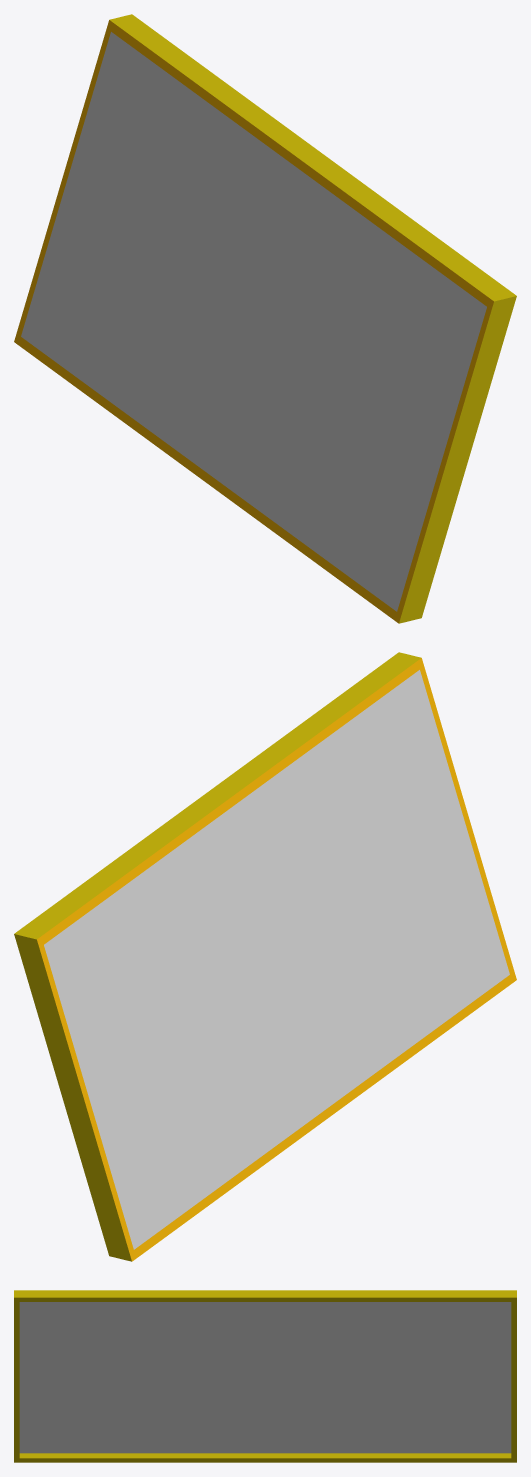
The model's file is window_slanted_7x1x3.dae.
3 renders of one model, top to bottom at view 1: azimuth 30°, elevation 25°; view 2: azimuth 150°, elevation 25°; view 3: azimuth 270°, elevation 25°, orthographic. The views are drawn at different scales.
Visible parts, largest first — view 1: Cube; view 2: Cube; view 3: Cube.
Boxes of the visible parts, <box> form: Cube: <box>14,14,516,623</box>; Cube: <box>14,652,516,1261</box>; Cube: <box>14,1290,516,1462</box>.
Bounding box in the file's own units: 0.31 × 1.75 × 0.75.
